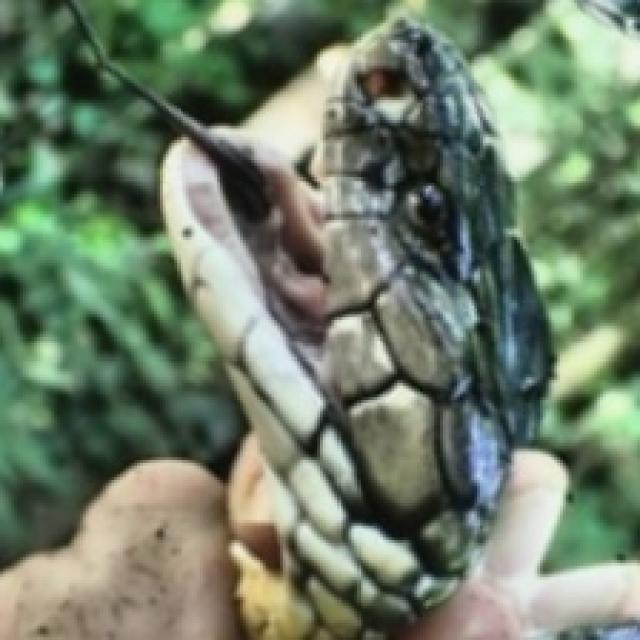king cobra: (163, 17, 637, 637)
